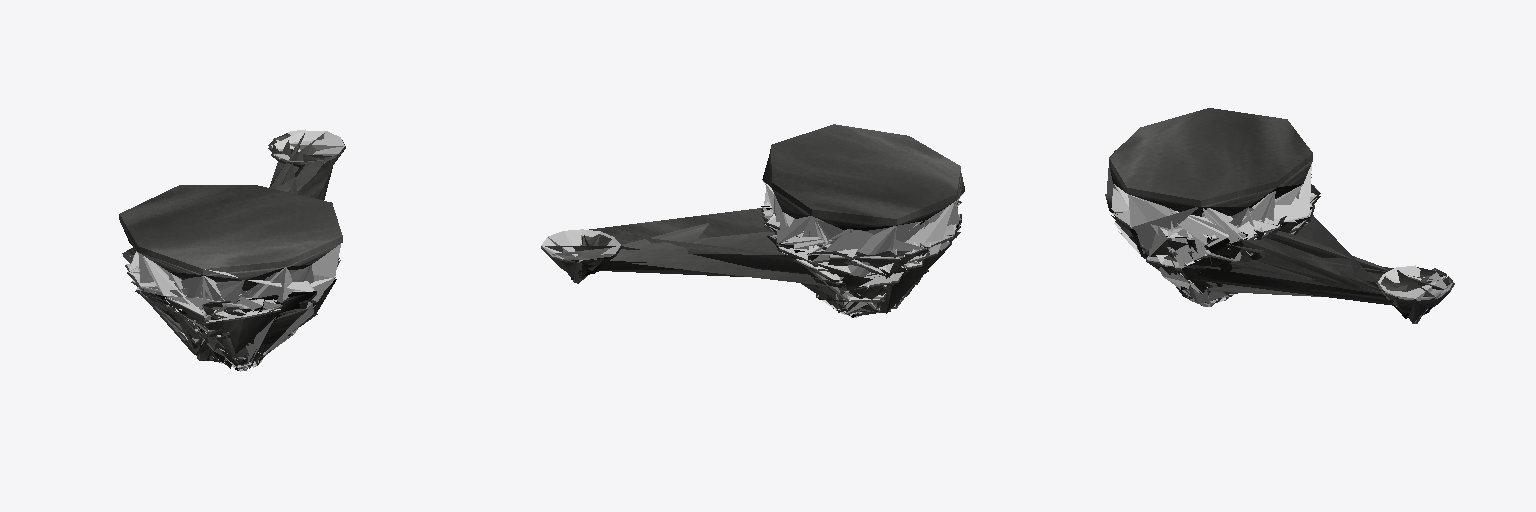
3 views of the same model, side by side, from view 1: azimuth 30°, elevation 25°; view 2: azimuth 150°, elevation 25°; view 3: azimuth 270°, elevation 25° (orthographic).
Parts seen in each view (by area): view 1: island.000.whole, island.main, island.sub.001, island.sub.002; view 2: island.000.whole, island.main, island.sub.001, island.sub.002; view 3: island.000.whole, island.main, island.sub.001, island.sub.002.
Boxes of the visible parts, <box> form: island.000.whole: <box>119,185,342,290</box>; island.main: <box>122,244,340,370</box>; island.sub.001: <box>128,133,343,371</box>; island.sub.002: <box>268,129,345,170</box>; island.000.whole: <box>762,124,964,230</box>; island.main: <box>761,181,963,317</box>; island.sub.001: <box>545,208,961,317</box>; island.sub.002: <box>541,229,621,283</box>; island.000.whole: <box>1109,108,1312,216</box>; island.main: <box>1105,164,1320,303</box>; island.sub.001: <box>1105,196,1448,306</box>; island.sub.002: <box>1376,265,1454,323</box>.
Size of the model in its own units: 34.39 by 15.69 by 33.97.
Materials: 4 (2 with a texture image).